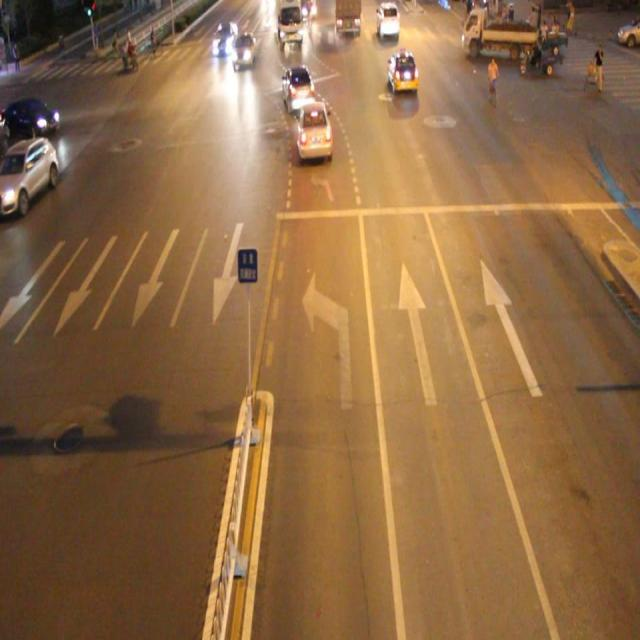car: (1, 134, 58, 220), (296, 100, 335, 163), (281, 63, 317, 116), (387, 51, 419, 92)
